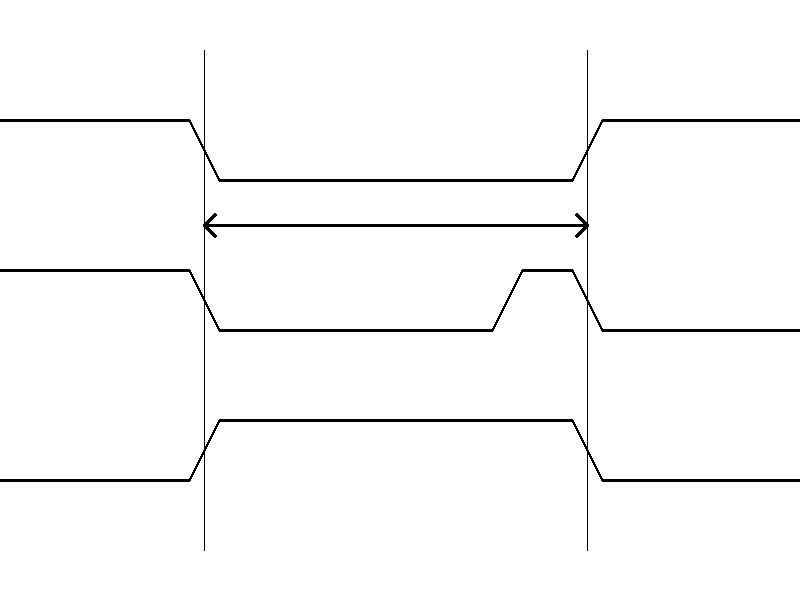double_arrow: (204, 210, 587, 240)
